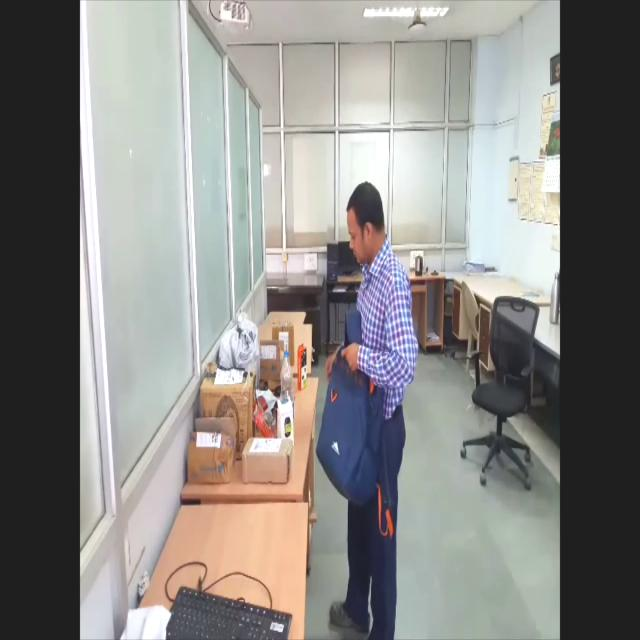shoplifting: (314, 179, 423, 637)
